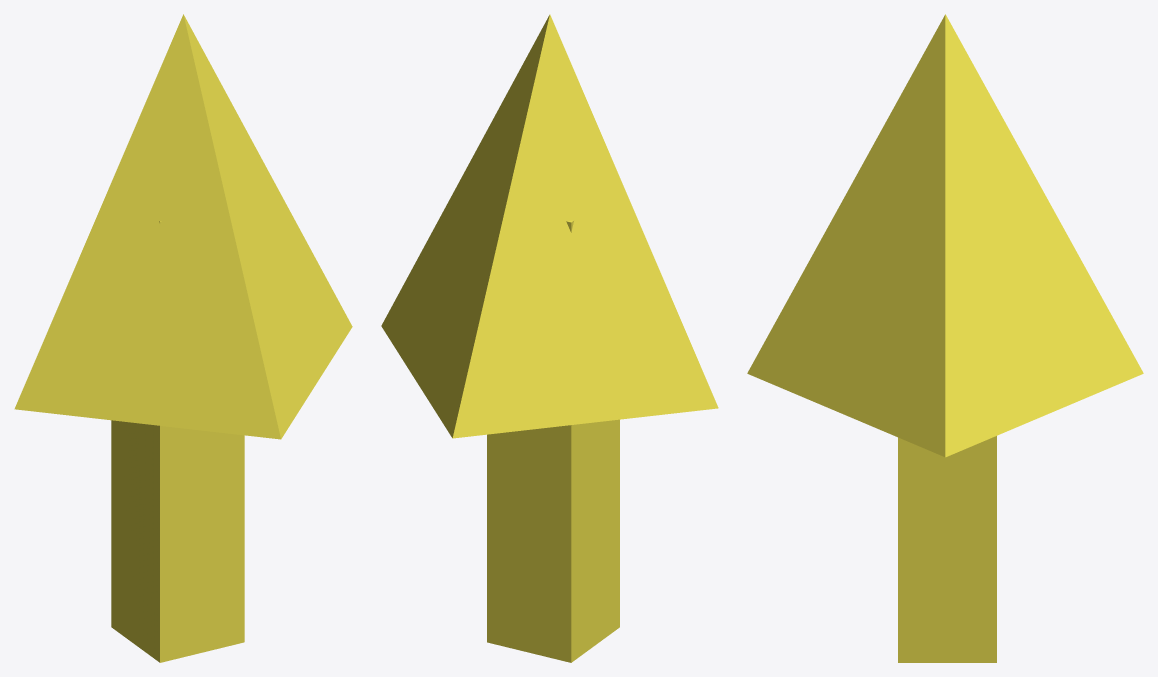
File: pine-yellow-low.glb
3 views of the same model, side by side, from view 1: azimuth 30°, elevation 25°; view 2: azimuth 150°, elevation 25°; view 3: azimuth 270°, elevation 25° (orthographic).
Visible parts, largest first — view 1: 立方体; view 2: 立方体; view 3: 立方体.
Part boxes in pixels (x1,y1,x2,y2): 立方体: (14,14,352,662); 立方体: (381,14,718,662); 立方体: (747,14,1143,662).
Size of the model in its own units: 2.5 by 4.38 by 2.5.
